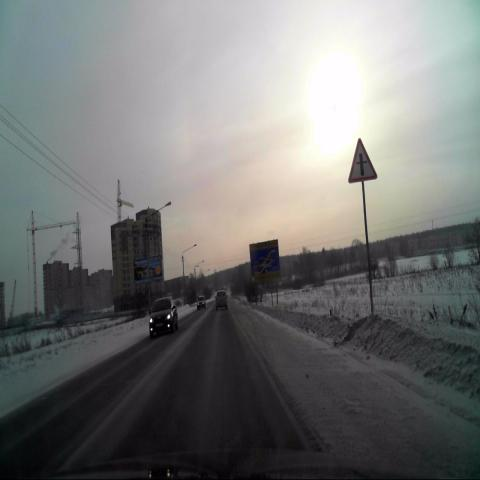2_3: (348, 139, 377, 183)
